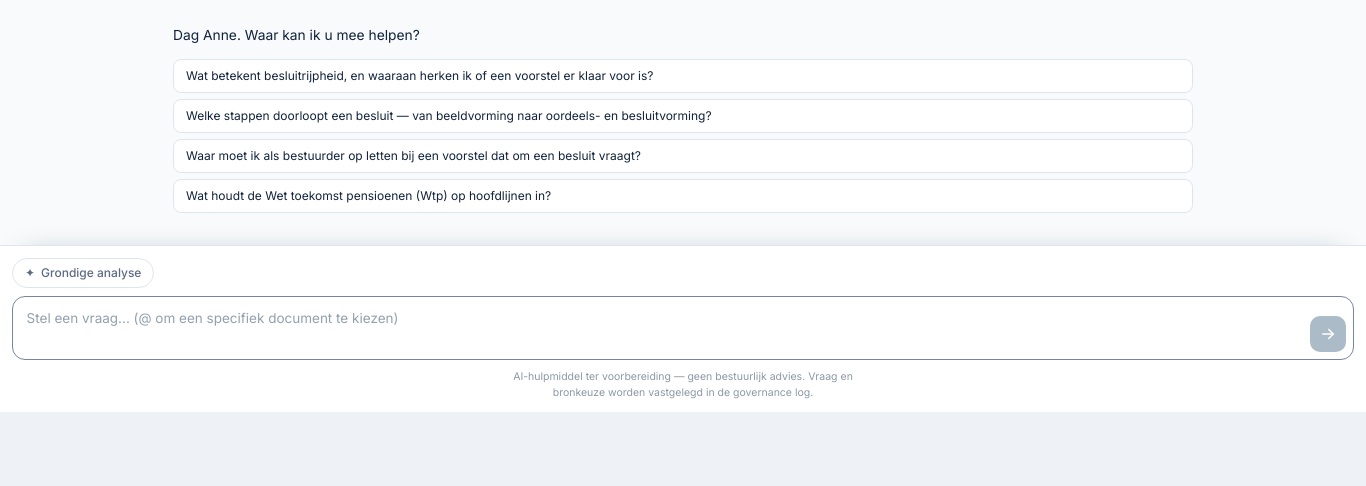
Test: AssistentClient — SSE-verwerking › negeert onleesbare events zonder de generatie te laten klappen
Type "Wat is onze dekkingsgraad?" into the text box with placeholder "Stel een vraag... (@ om een specifiek document te kiezen)" at (683, 328), box [13,297,1353,360]
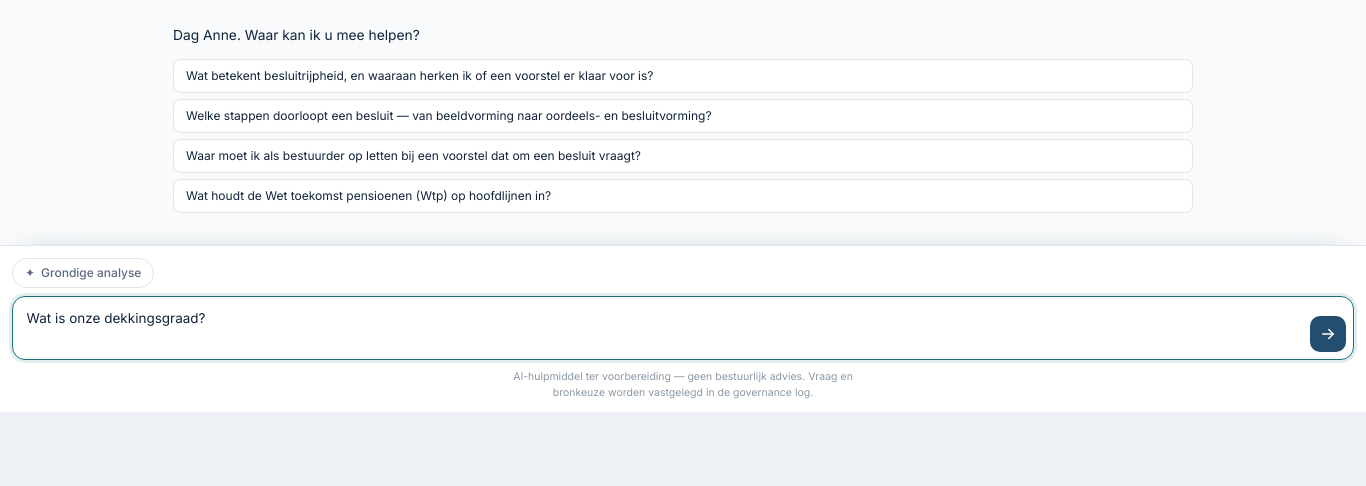
Click the button named "Vraag versturen" at (1328, 334), box [1310,316,1346,352]
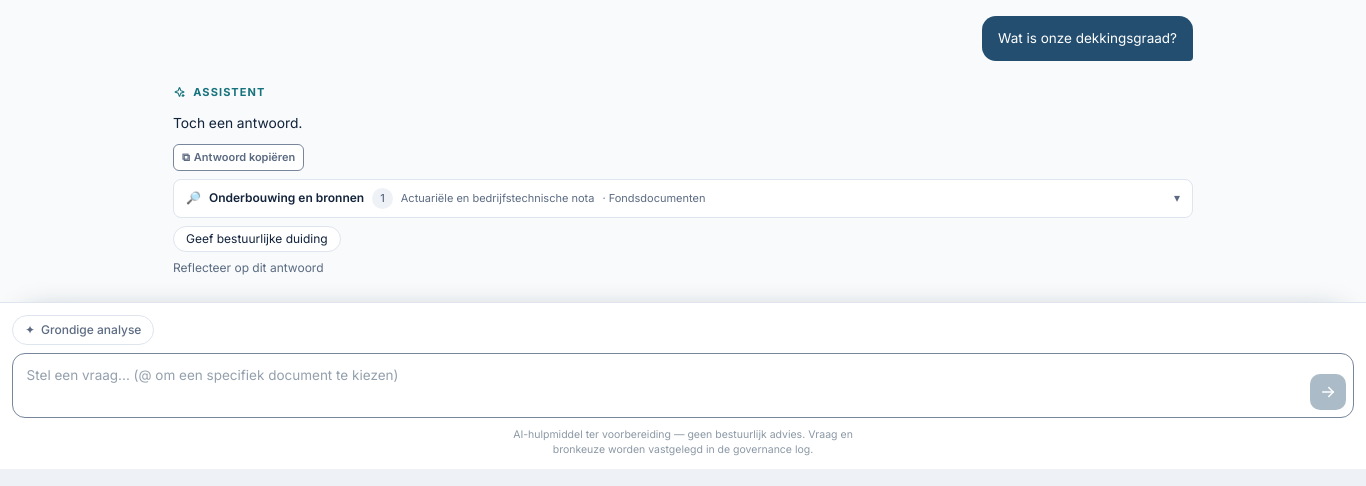
Now the text "Toch een antwoord." is shown, box [173,115,302,131]
